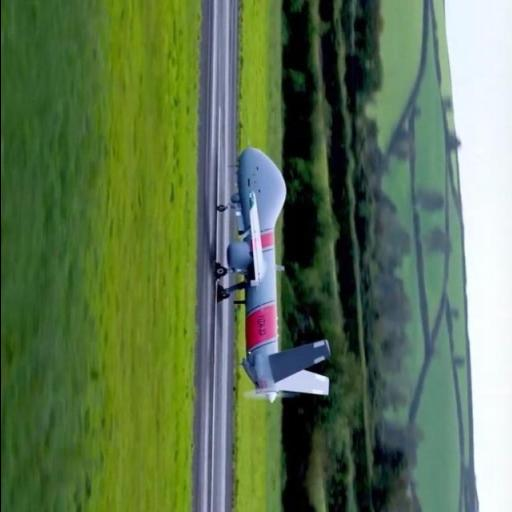uav: (207, 144, 339, 406)
